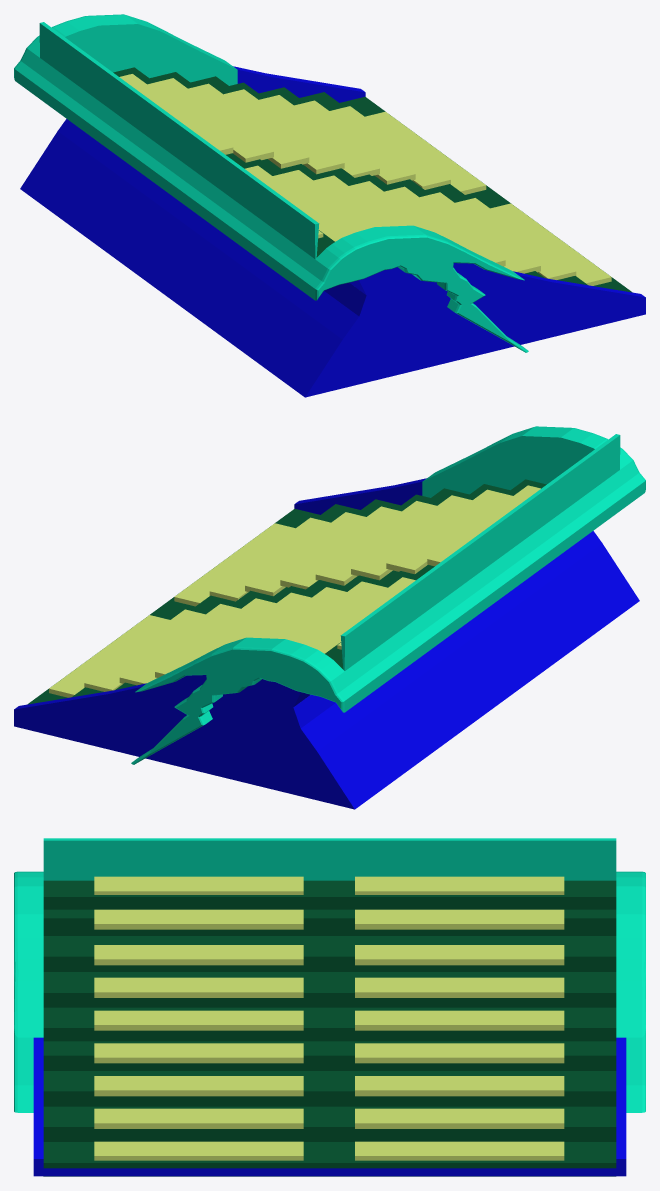
The model's file is Bleachers_Model.fbx.
3 views of the same model, one above another, from view 1: azimuth 30°, elevation 25°; view 2: azimuth 150°, elevation 25°; view 3: azimuth 270°, elevation 25° (orthographic). The views are drawn at different scales.
Visible parts, largest first — view 1: Wave2, pCube10, pCube11, Stairs; view 2: Wave2, pCube11, pCube10, Stairs; view 3: Stairs, Wave2, pCube11, pCube10.
Part boxes in pixels (x1,y1,x2,y2): Wave2: (14, 14, 645, 397); pCube10: (119, 74, 486, 194); pCube11: (245, 165, 611, 285); Stairs: (113, 67, 632, 292); Wave2: (14, 426, 645, 809); pCube11: (174, 485, 540, 606); pCube10: (49, 577, 415, 697); Stairs: (27, 479, 546, 704); Stairs: (43, 880, 616, 1176); Wave2: (14, 838, 645, 1176); pCube11: (94, 876, 303, 1160); pCube10: (355, 876, 564, 1160).
Size of the model in its own units: 25.07 by 11.69 by 38.71.
